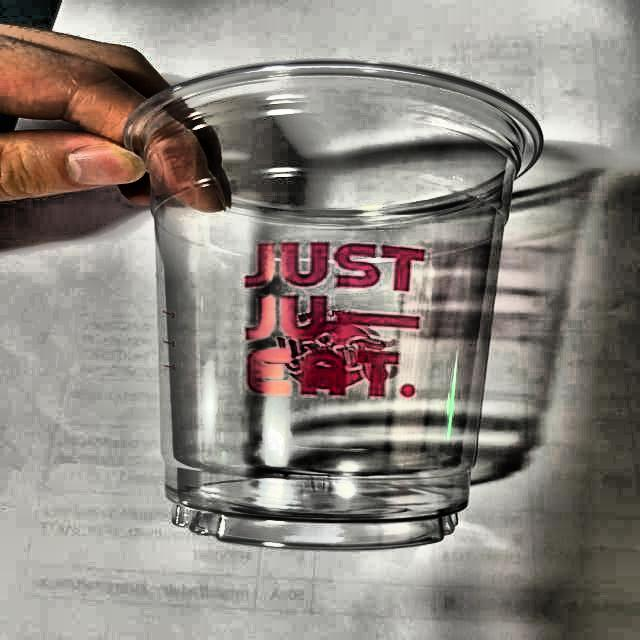plastic cup: (126, 58, 554, 552)
